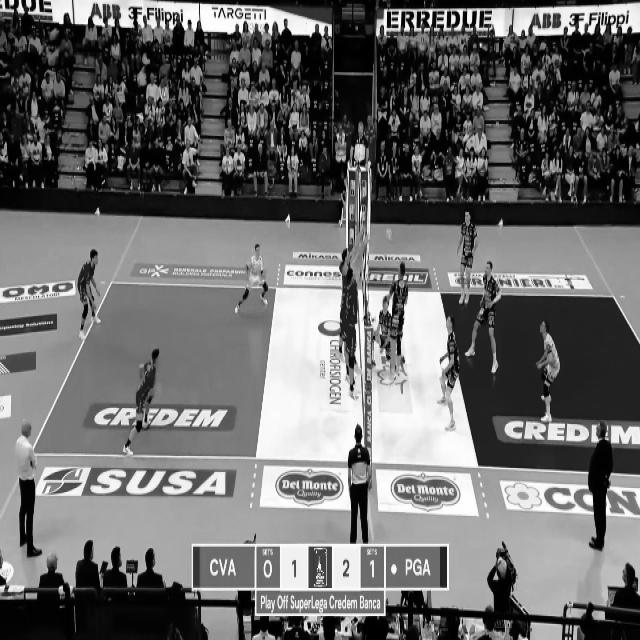volleyball court: (26, 279, 639, 472)
